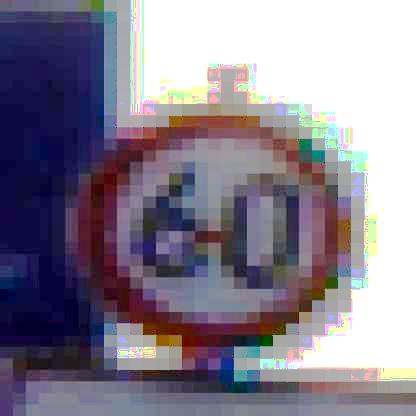Speed Limit -60-: (64, 98, 364, 361)
